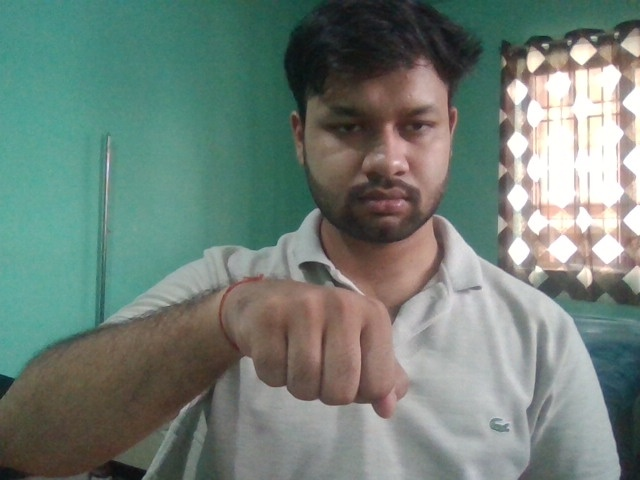Yes: (237, 271, 412, 421)
